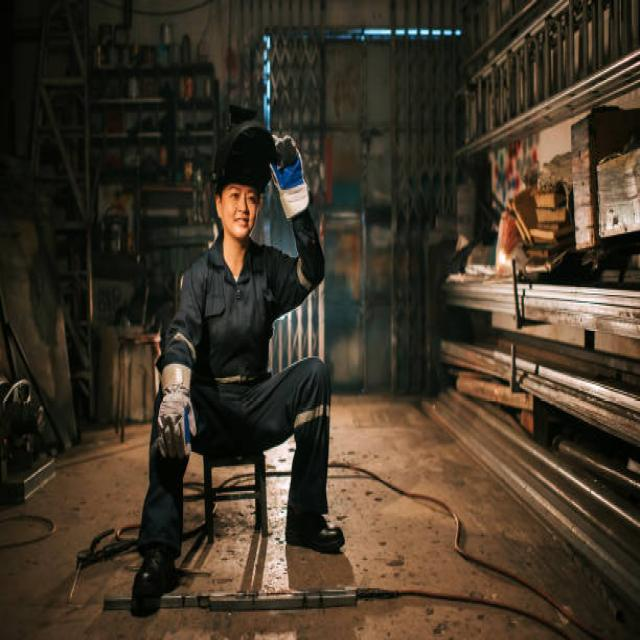Gloves: (151, 359, 201, 464), (269, 132, 312, 228)
person: (130, 117, 347, 614)
